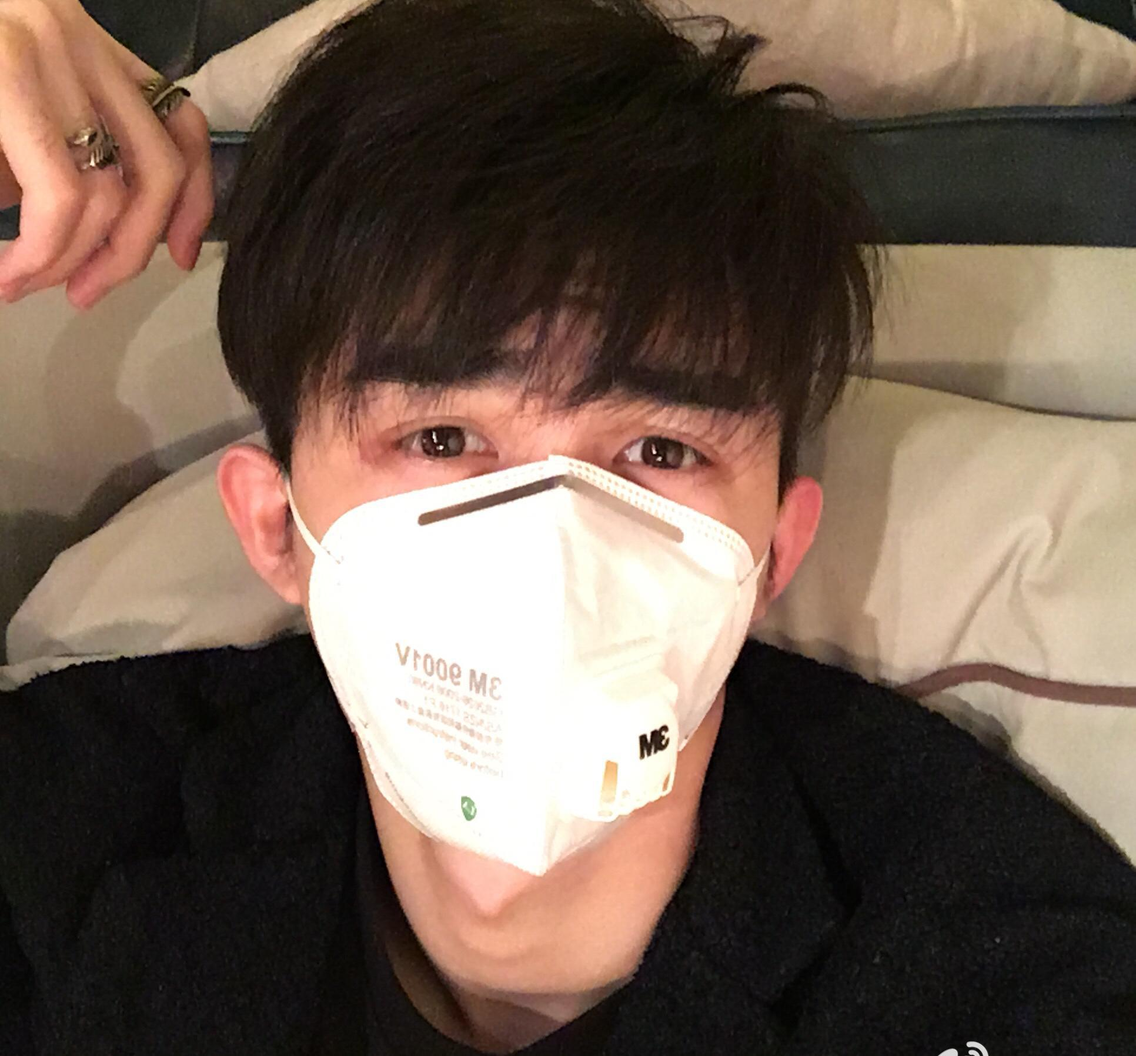OK: (282, 322, 773, 857)
